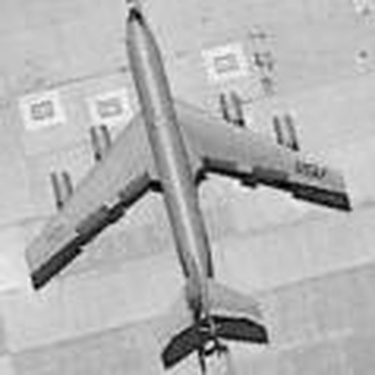airplane: (7, 1, 358, 365)
